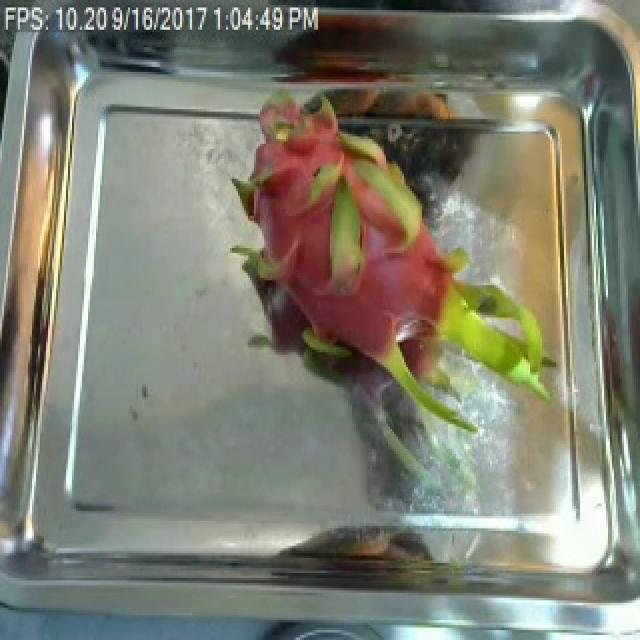fruit: (204, 77, 550, 456)
